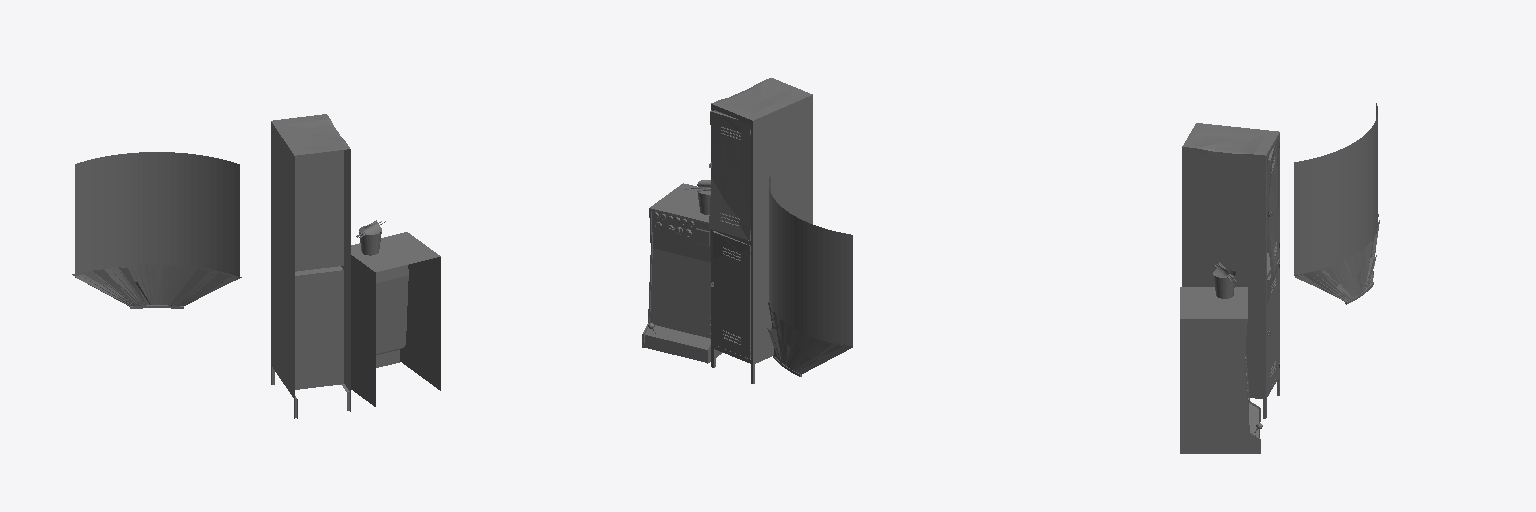
File: entregasi.obj
3 renders of one model, left to right at view 1: azimuth 30°, elevation 25°; view 2: azimuth 150°, elevation 25°; view 3: azimuth 270°, elevation 25°, orthographic.
Visible parts, largest first — view 1: casillero_casillero, pantalla, arcade_made_thing, luz_proyector, fideos; view 2: casillero_casillero, arcade_made_thing, pantalla, casillero puertaarriba, casillero puertaabajo, luz_proyector; view 3: casillero_casillero, arcade_made_thing, pantalla, luz_proyector, casillero puertaabajo, casillero puertaarriba, fideos.
Boxes of the visible parts, x1=… form: casillero_casillero: x1=271, y1=114, x2=350, y2=418; pantalla: x1=75, y1=152, x2=239, y2=276; arcade_made_thing: x1=351, y1=232, x2=440, y2=406; luz_proyector: x1=72, y1=264, x2=241, y2=308; fideos: x1=356, y1=220, x2=385, y2=255; casillero_casillero: x1=710, y1=78, x2=812, y2=383; arcade_made_thing: x1=642, y1=183, x2=722, y2=363; pantalla: x1=769, y1=175, x2=852, y2=346; casillero puertaarriba: x1=709, y1=110, x2=750, y2=240; casillero puertaabajo: x1=711, y1=231, x2=750, y2=358; luz_proyector: x1=767, y1=301, x2=852, y2=376; casillero_casillero: x1=1182, y1=123, x2=1279, y2=418; arcade_made_thing: x1=1180, y1=287, x2=1262, y2=453; pantalla: x1=1294, y1=103, x2=1377, y2=274; luz_proyector: x1=1294, y1=214, x2=1379, y2=304; casillero puertaabajo: x1=1267, y1=259, x2=1279, y2=392; casillero puertaarriba: x1=1267, y1=143, x2=1279, y2=275; fideos: x1=1213, y1=262, x2=1236, y2=298.
Size of the model in its own units: 56.96 by 53.11 by 36.63.